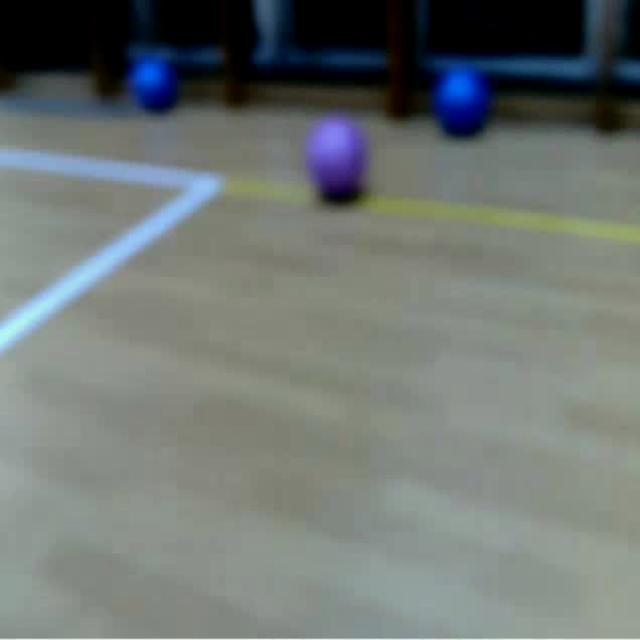blue_ball: (434, 67, 488, 133), (135, 57, 177, 111)
purple_ball: (310, 117, 366, 195)
